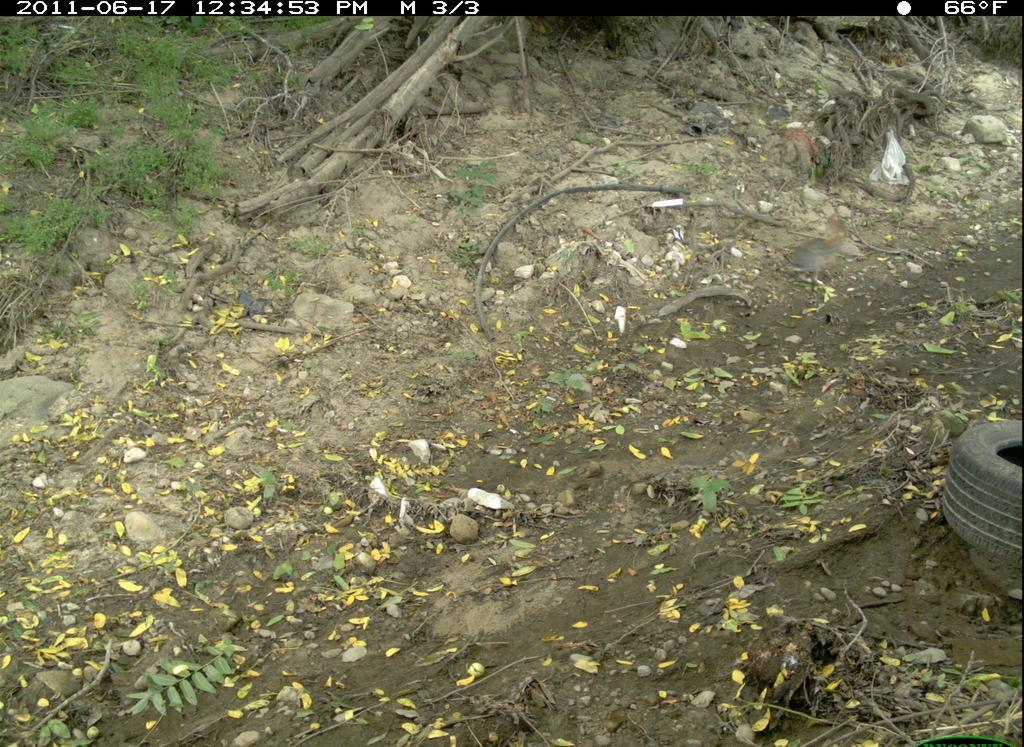rabbit: (779, 214, 876, 296)
